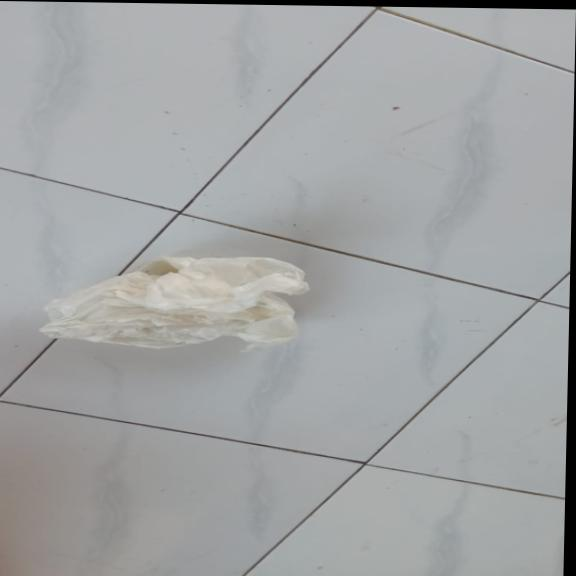Plastik: (37, 252, 313, 353)
